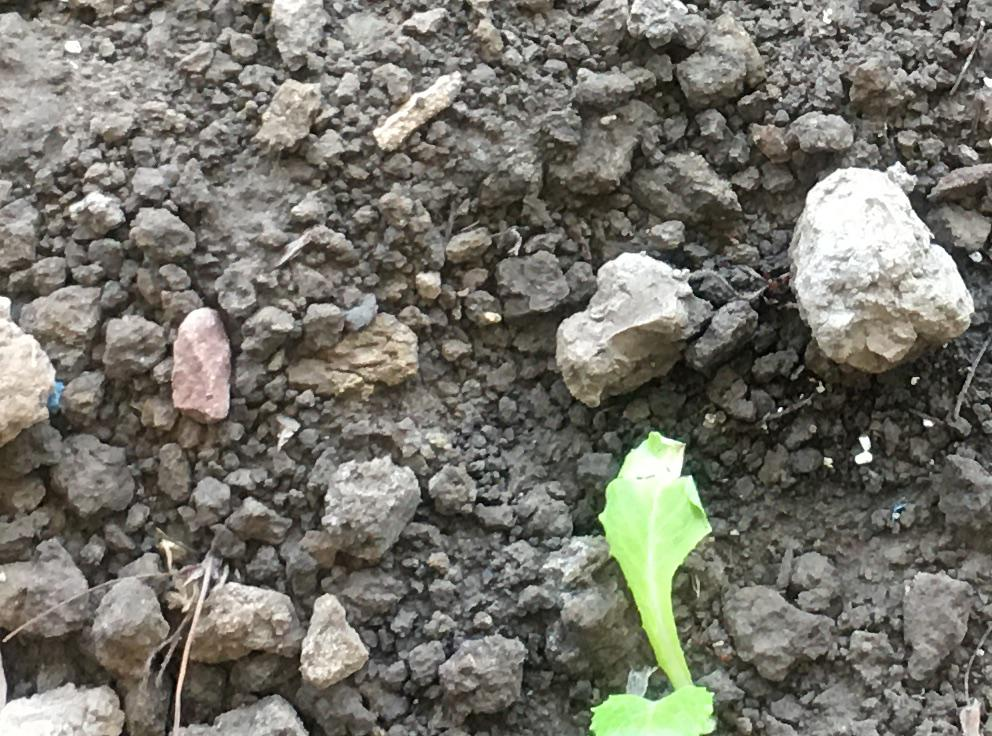block: (791, 164, 972, 376), (554, 249, 693, 405), (313, 459, 427, 558), (1, 538, 92, 638), (1, 305, 57, 458), (189, 586, 295, 664), (177, 305, 233, 428)
